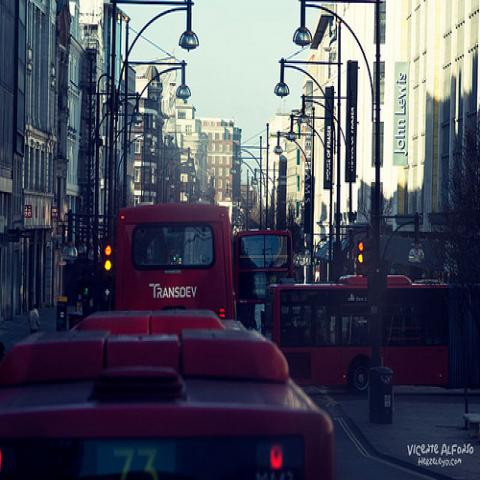bus: (0, 311, 334, 474), (265, 269, 479, 388), (114, 202, 235, 320), (234, 231, 292, 337)
